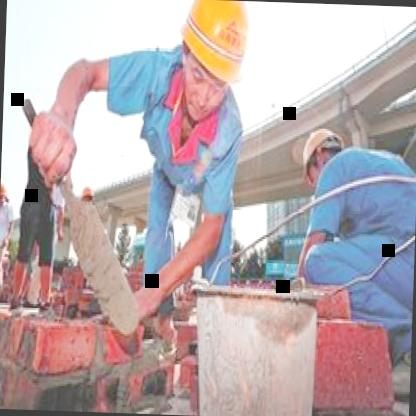helmet: (168, 0, 257, 126), (299, 119, 344, 186), (78, 180, 97, 206), (0, 180, 9, 207)
